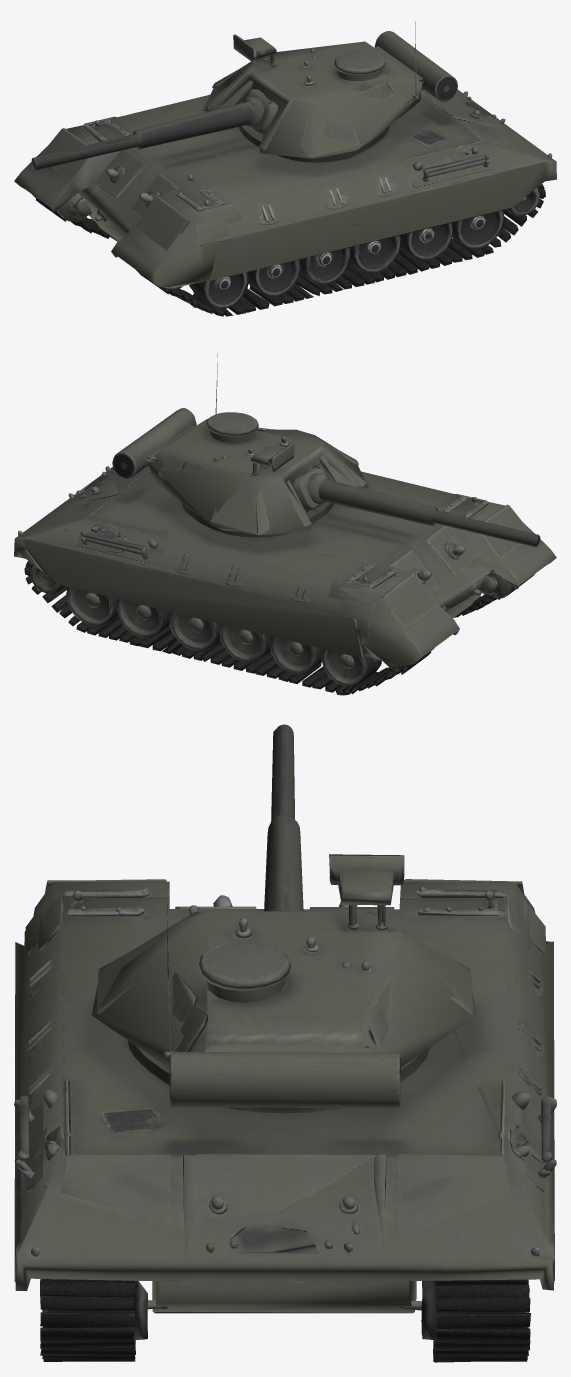
The model's file is armata.glb.
The picture shows the model from 3 angles, top to bottom: view 1: azimuth 30°, elevation 25°; view 2: azimuth 150°, elevation 25°; view 3: azimuth 270°, elevation 25°; orthographic projection. The views are drawn at different scales.
Bounding box in the file's own units: 1 × 0.4815 × 0.5514.
Materials: 1 (1 with a texture image).
